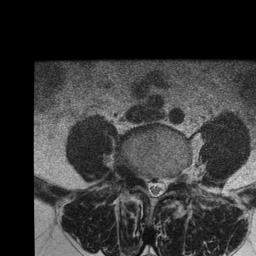CCS_normal: (152, 172, 159, 204)
LFS_stenosis: (167, 166, 177, 192)
LLS_normal: (159, 168, 167, 202)
RFS_severe_stenosis: (137, 163, 145, 189)
RLS_normal: (145, 168, 152, 202)
